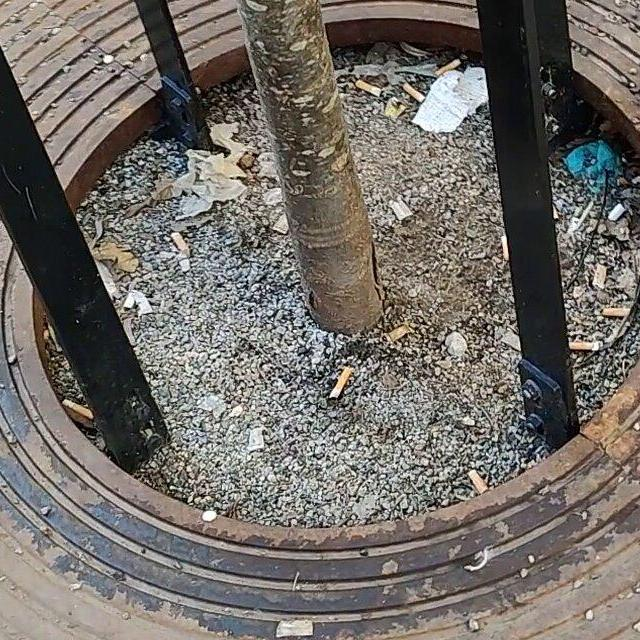Cigarette Butt: (327, 365, 353, 402), (60, 396, 96, 420), (168, 228, 196, 252), (434, 57, 463, 80), (352, 79, 387, 97), (402, 79, 428, 103), (467, 468, 490, 495), (567, 339, 603, 351), (602, 305, 632, 318)
